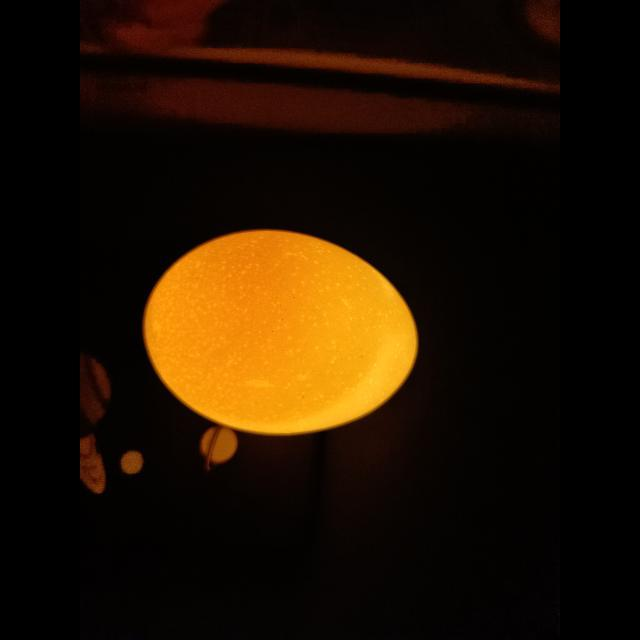AA - Premium: (144, 230, 418, 435)
